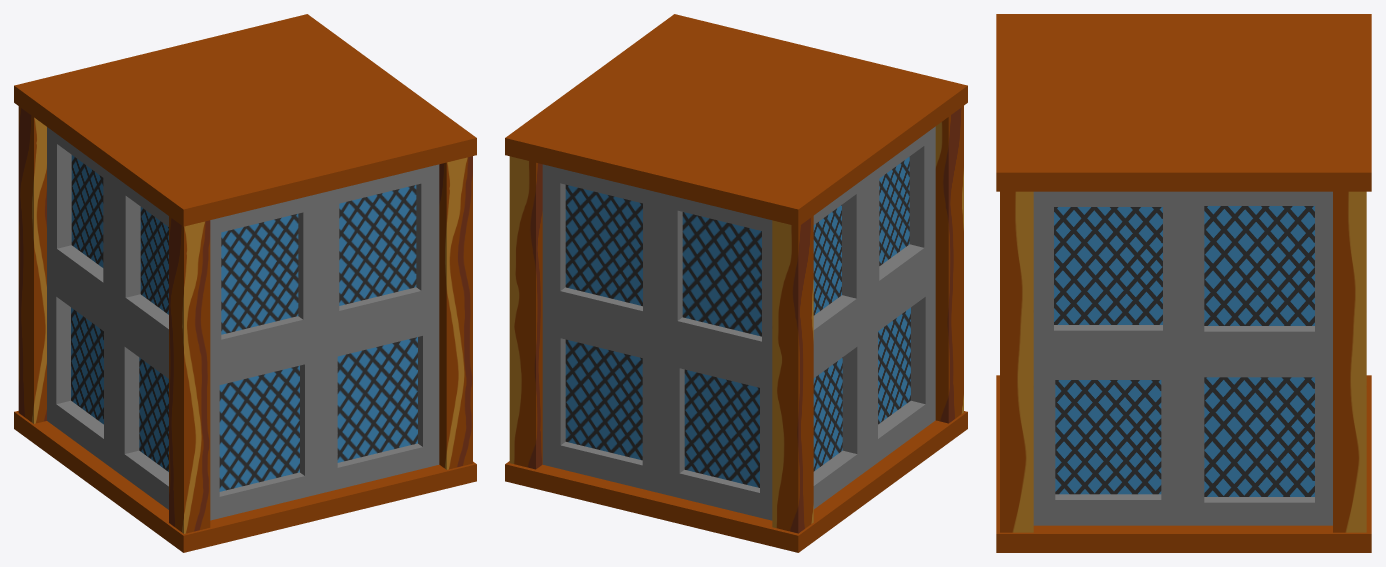
The model's file is Basic_town_house.fbx.
3 views of the same model, side by side, from view 1: azimuth 30°, elevation 25°; view 2: azimuth 150°, elevation 25°; view 3: azimuth 270°, elevation 25° (orthographic). The views are drawn at different scales.
Visible parts, largest first — view 1: House; view 2: House; view 3: House.
Boxes of the visible parts, bbox=[...] form: House: bbox=[14, 14, 476, 552]; House: bbox=[505, 14, 967, 552]; House: bbox=[996, 14, 1371, 552].
Size of the model in its own units: 8.94 by 10 by 8.94.
